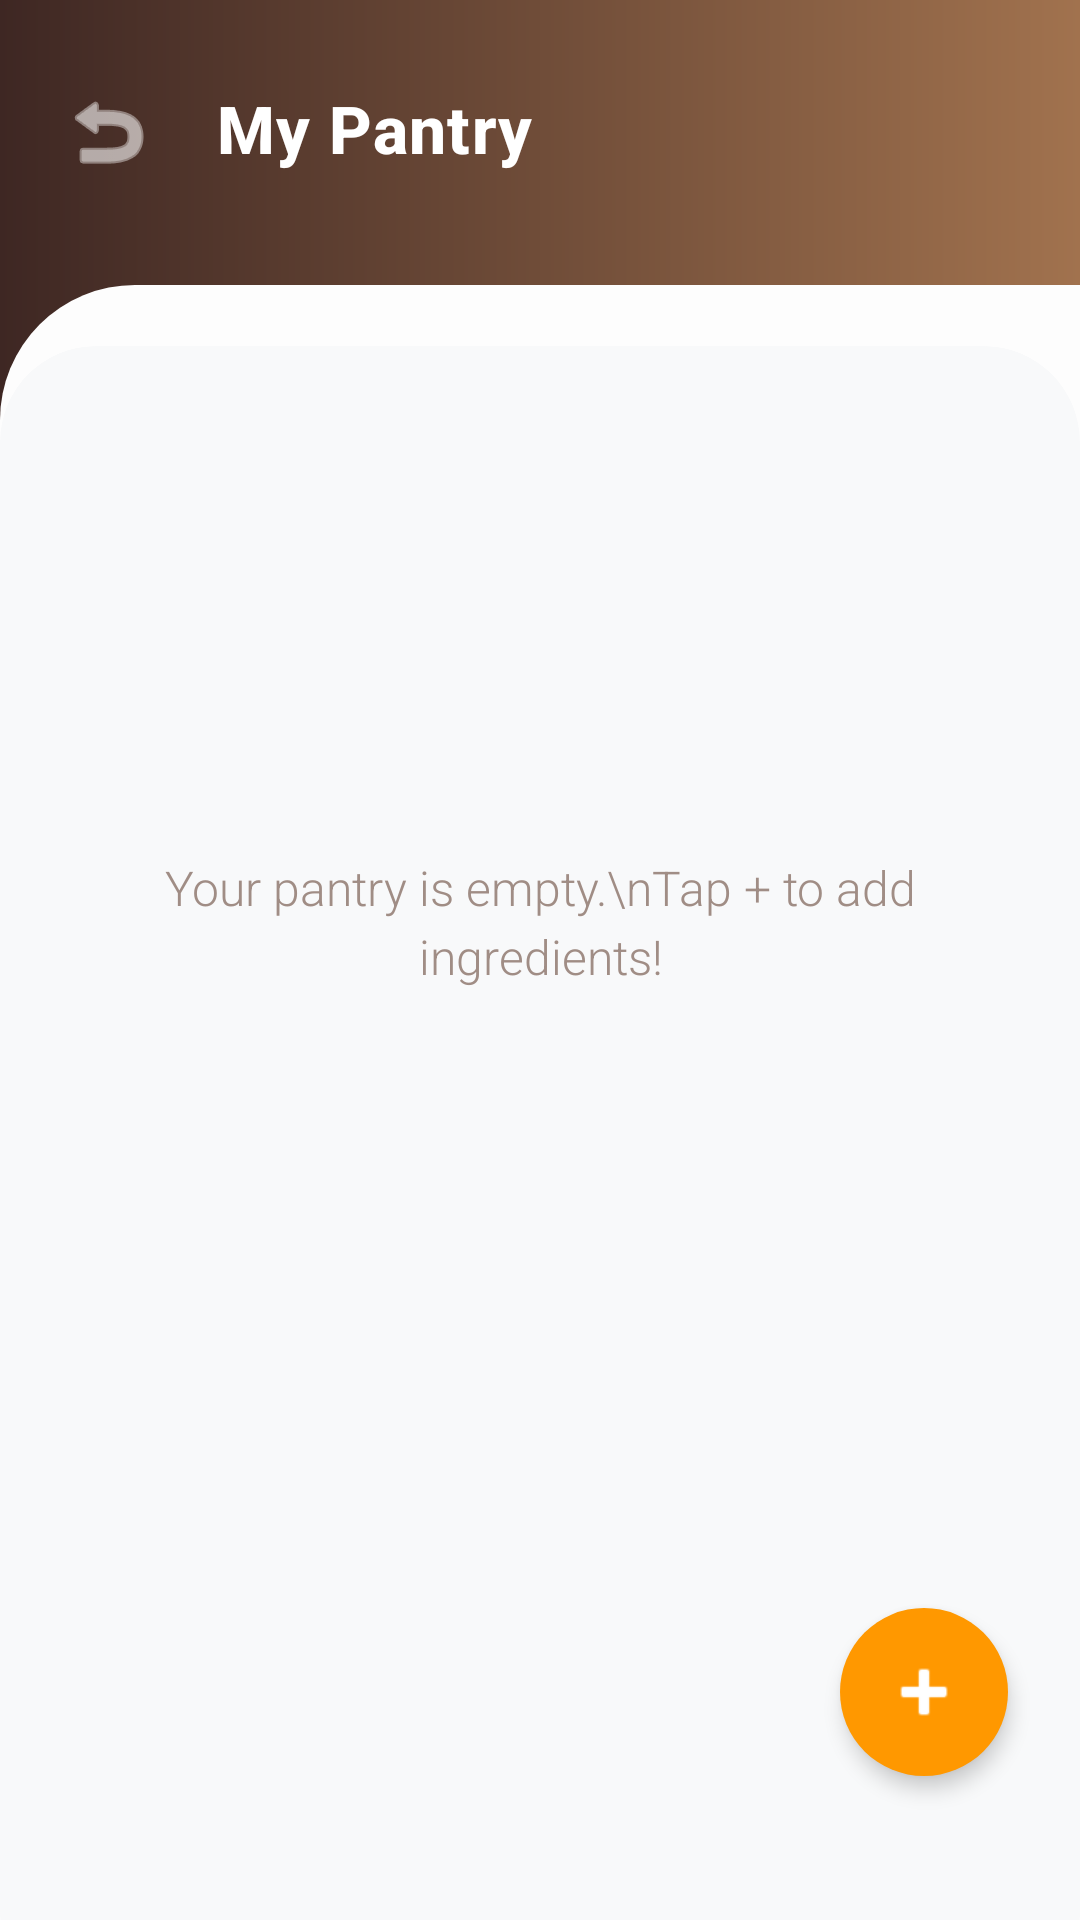

Where icons sit on this 1080*1920 app screen, as region(x1, y1, x2, y2):
Add Item: region(840, 1608, 1008, 1776)
revert: region(75, 101, 144, 164)
